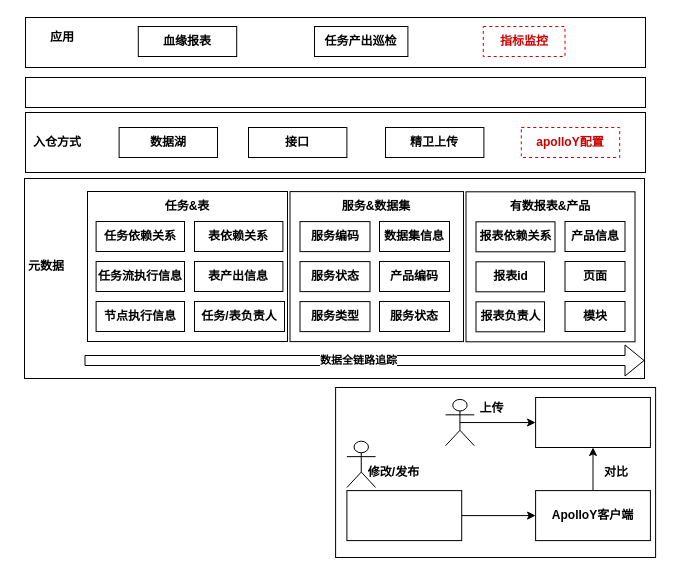
The diagram is 674 pixels wide and 575 high, and some of its shapes have lost their labels. The shapes that lost their labels are listed below. From the top down, each one's centre as x and y in pixels, then its label:
At (x=335, y=92): "元数据建模".
At (x=592, y=422): "精卫表".
At (x=404, y=515): "ApolloY配置中心".
